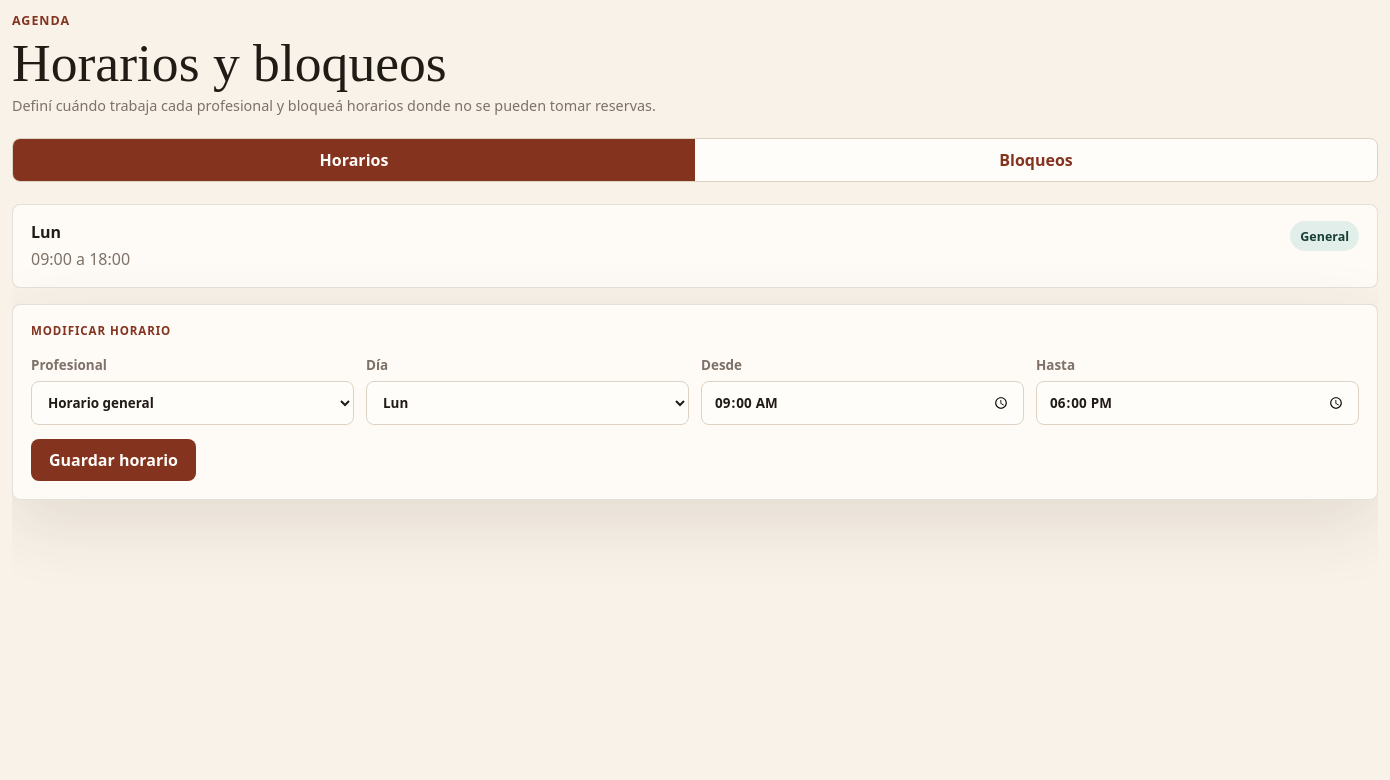
Scenario: AdminAgendaPanel › uses accessible tabs for hours and blocks
Check: the panel named "Horarios" is shown, box [12,204,1378,500]
What coordinates should you click on to do the following:
click the tab "Bloqueos"
I would click on:
 (1036, 160)
Its box is [695,139,1377,181].
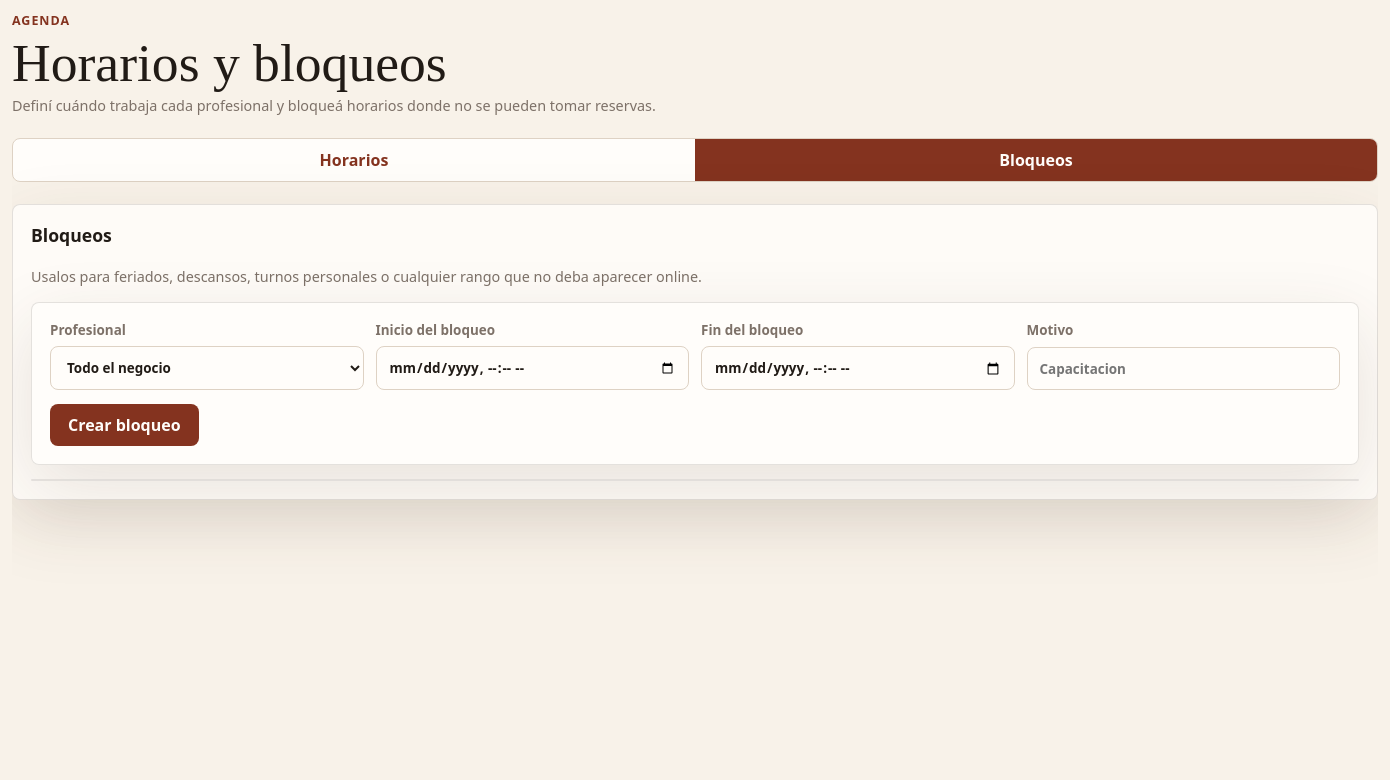
Check: the panel "Bloqueos" is shown, box [12,204,1378,500]
